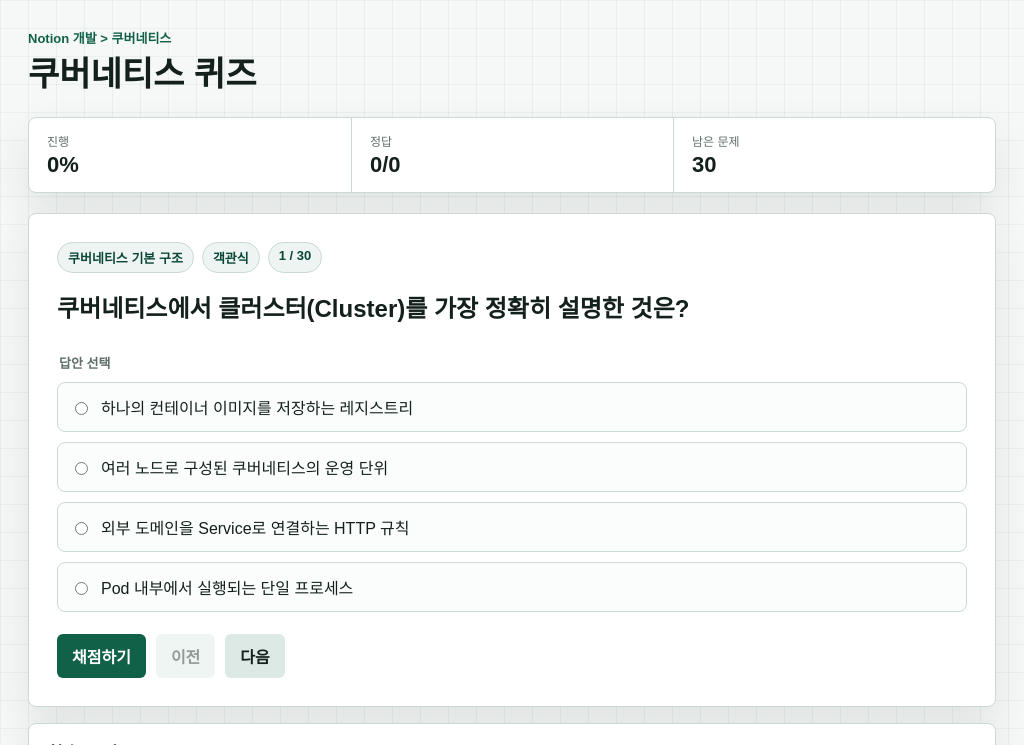
Test: QuizPage › lets a user answer a question and read the explanation
Expected: the text "Notion 개발 > 쿠버네티스" is shown, left=28, top=31, right=171, bottom=46
Expected: the heading "쿠버네티스 퀴즈" is shown, left=28, top=55, right=256, bottom=93
Step 1. Click the radio button labelled "여러 노드로 구성된 쿠버네티스의 운영 단위" → (82, 469), box left=75, top=462, right=88, bottom=476
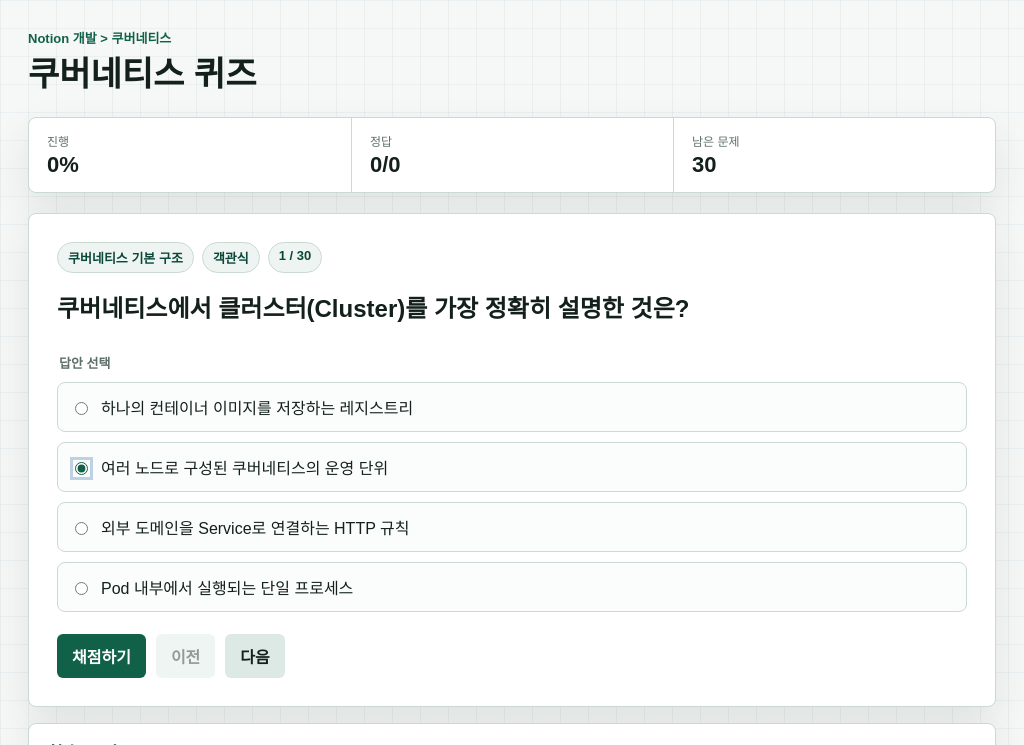
Step 2. Click the button "채점하기" → (101, 656), box left=57, top=634, right=146, bottom=678
(page scrolled)
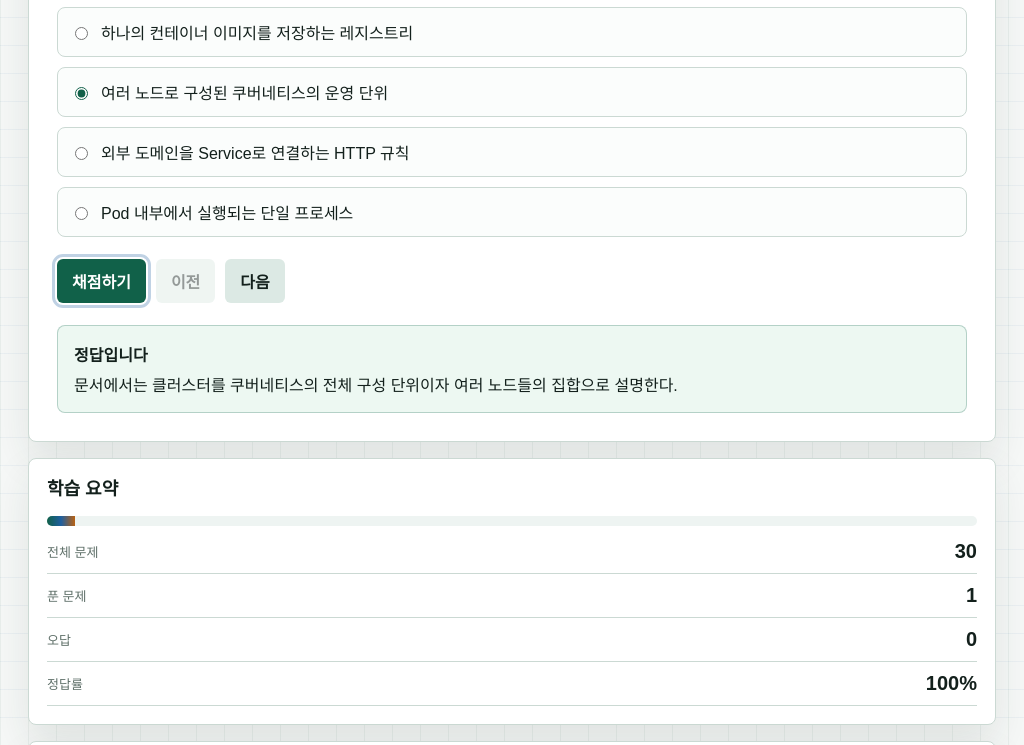
Result: the text "정답입니다" is shown at left=74, top=348, right=148, bottom=364
Result: the text "문서에서는 클러스터를 쿠버네티스의 전체 구성 단위이자 여러 노드들의 집합으로 설명한다." is shown at left=74, top=378, right=678, bottom=394
